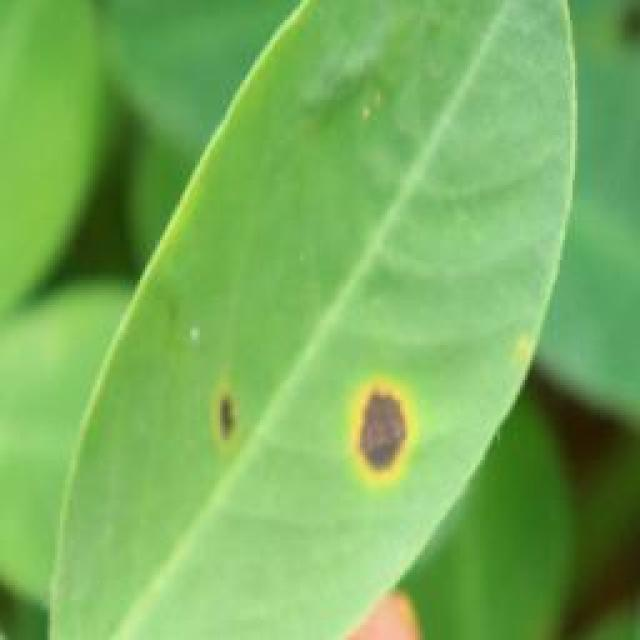Sigatoka: (325, 367, 415, 471), (206, 381, 262, 451)
